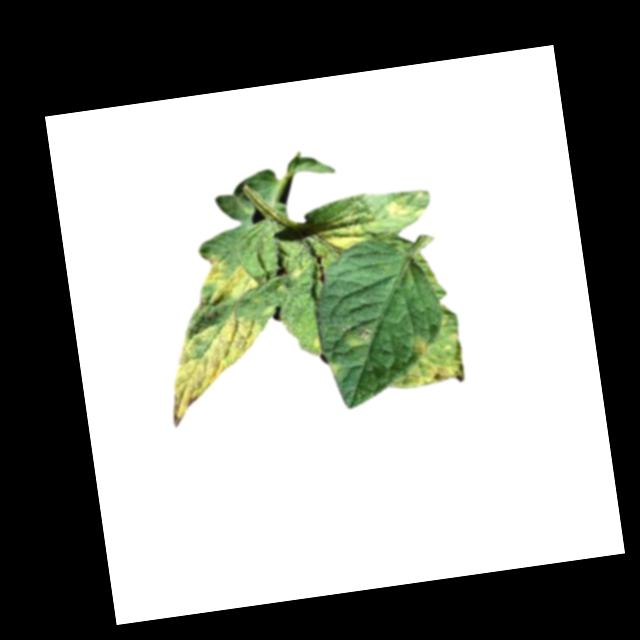Leaf_Mold: (157, 307, 274, 427), (195, 248, 261, 305), (395, 351, 467, 393), (318, 210, 368, 254), (381, 188, 432, 224), (411, 335, 428, 357)
